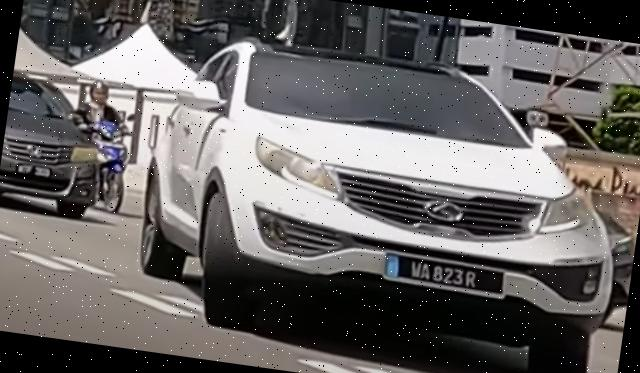License_Plate: (381, 251, 509, 300)
car: (124, 22, 640, 373)
